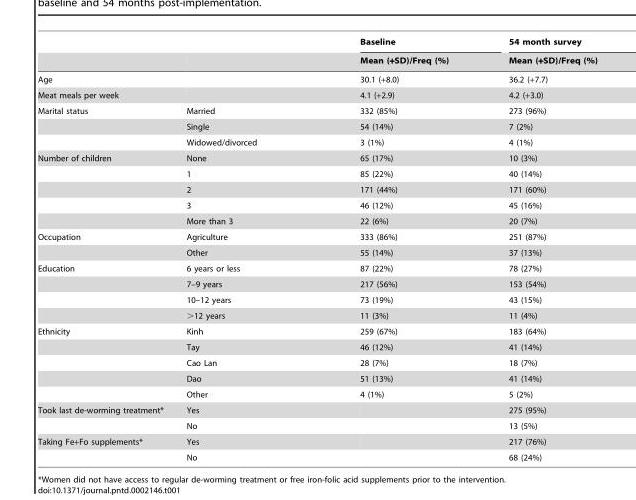table: (37, 37, 596, 461)
table column: (307, 37, 478, 461), (37, 37, 174, 461), (174, 37, 307, 461), (478, 37, 596, 461)
table column header: (37, 37, 596, 68)
table row: (37, 49, 596, 68), (37, 68, 596, 86), (37, 86, 596, 103), (37, 432, 596, 449), (37, 118, 596, 134), (37, 134, 596, 150), (37, 165, 596, 181), (37, 181, 596, 197), (37, 197, 596, 213), (37, 228, 596, 244), (37, 244, 596, 260), (37, 260, 596, 276), (37, 291, 596, 307), (37, 307, 596, 323), (37, 323, 596, 339), (37, 354, 596, 370), (37, 370, 596, 386), (37, 386, 596, 402), (37, 103, 596, 118), (37, 150, 596, 165), (37, 213, 596, 228), (37, 276, 596, 291), (37, 339, 596, 354), (37, 402, 596, 417), (37, 417, 596, 432), (37, 37, 596, 49), (37, 449, 596, 461)
table spanning cell: (37, 323, 174, 402), (37, 150, 174, 228), (37, 260, 174, 323), (37, 103, 174, 150), (307, 37, 478, 68), (37, 228, 174, 260), (37, 402, 174, 432), (37, 432, 174, 461), (478, 37, 596, 68)
